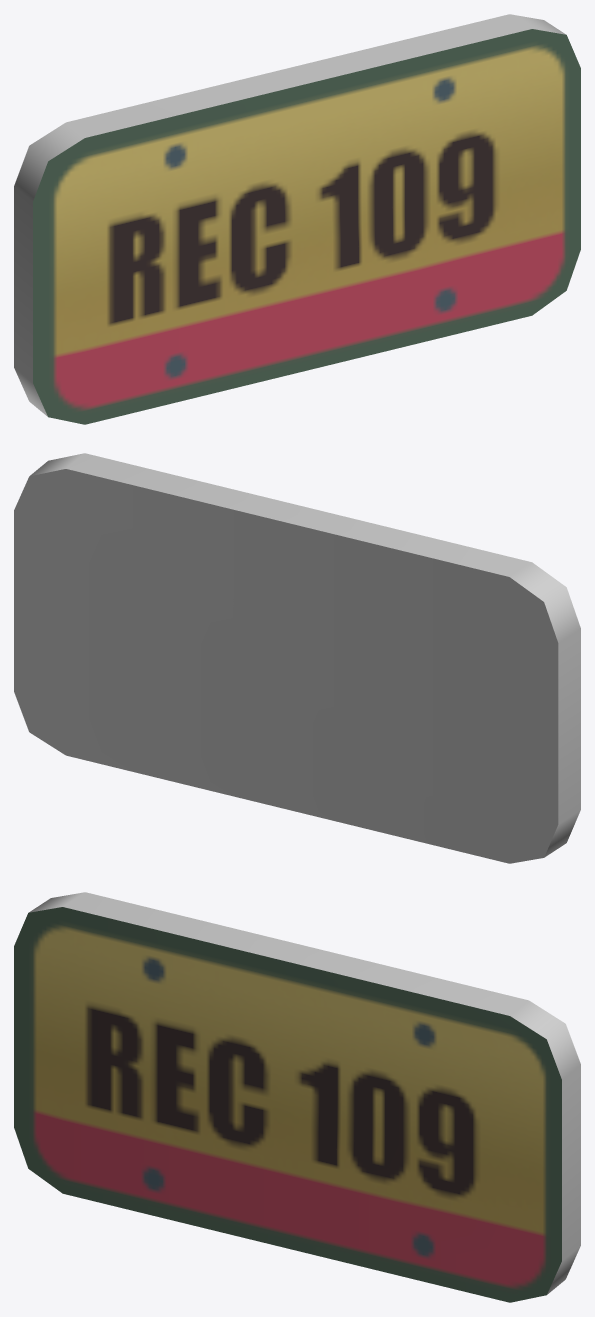
Rendered from Car_Number_30.fbx.
The picture shows the model from 3 angles, top to bottom: view 1: azimuth 30°, elevation 25°; view 2: azimuth 150°, elevation 25°; view 3: azimuth 330°, elevation 25°; orthographic projection.
Visible parts, largest first — view 1: Car_Number_30; view 2: Car_Number_30; view 3: Car_Number_30.
Boxes of the visible parts, x1,y1,x2,y2 form: Car_Number_30: (14,14,580,424); Car_Number_30: (14,453,580,863); Car_Number_30: (14,892,580,1302).
Size of the model in its own units: 49.09 by 3.48 by 24.55.
